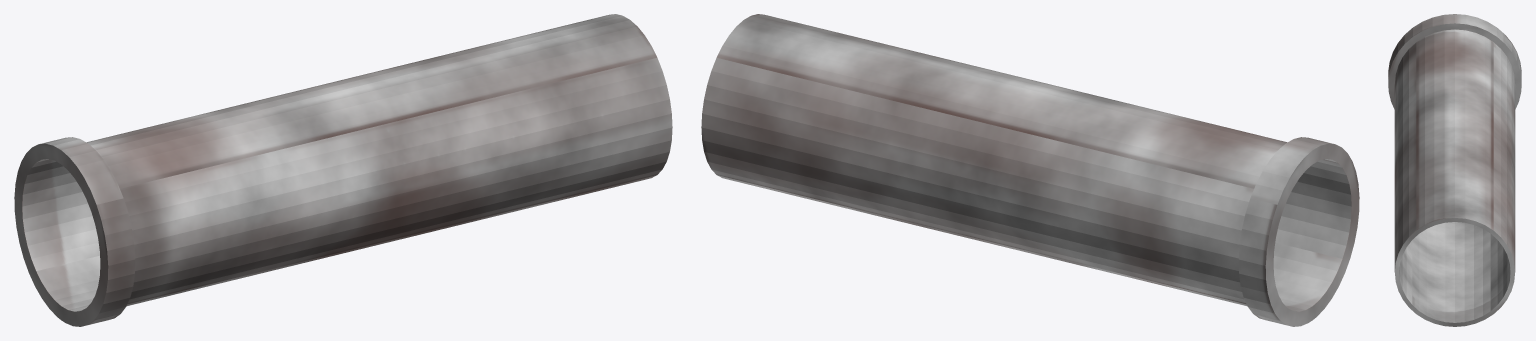
The model's file is Pipe 2 no end.glb.
3 views of the same model, side by side, from view 1: azimuth 30°, elevation 25°; view 2: azimuth 150°, elevation 25°; view 3: azimuth 270°, elevation 25° (orthographic). The views are drawn at different scales.
Parts seen in each view (by area): view 1: Pipe 200mm NE; view 2: Pipe 200mm NE; view 3: Pipe 200mm NE.
Part boxes in pixels (x1=…): Pipe 200mm NE: x1=14, y1=14, x2=672, y2=326; Pipe 200mm NE: x1=701, y1=14, x2=1359, y2=326; Pipe 200mm NE: x1=1388, y1=14, x2=1521, y2=326.
Size of the model in its own units: 10.73 by 3.06 by 3.06.
1 material, 1 textured.
